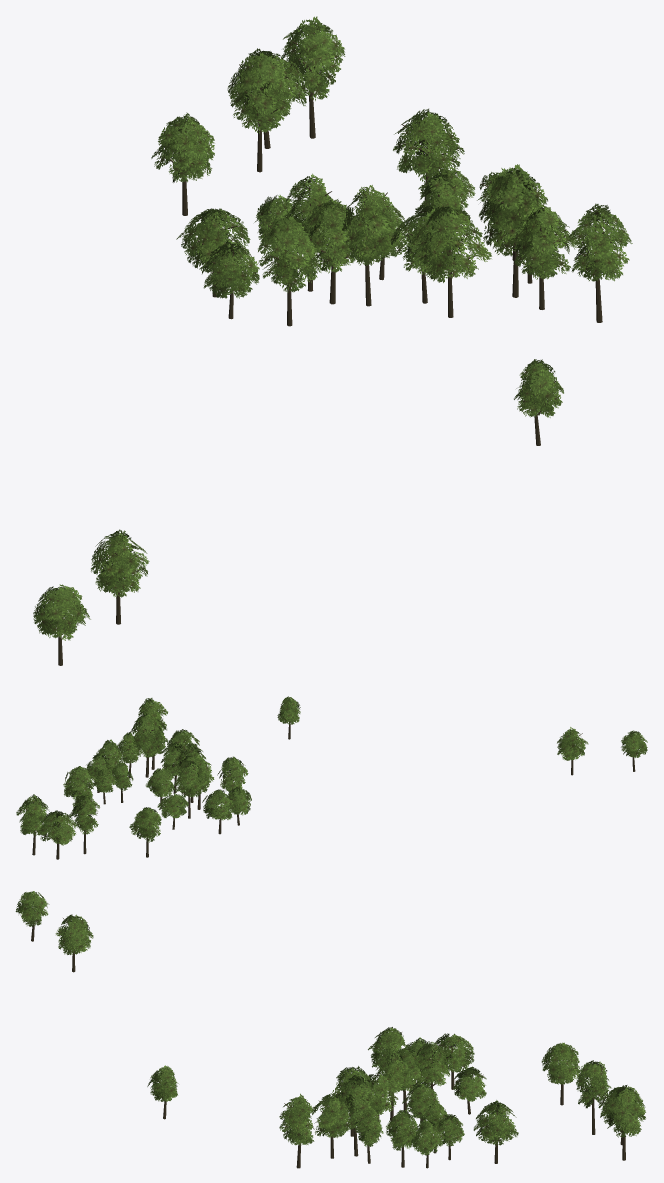
Rendered from TRB8-FOREST-CHUNK-5-4.glb.
The picture shows the model from 3 angles, top to bottom: view 1: azimuth 30°, elevation 25°; view 2: azimuth 150°, elevation 25°; view 3: azimuth 270°, elevation 25°; orthographic projection. The views are drawn at different scales.
Parts seen in each view (by area): view 1: TRB8-FOREST-CHUNK-5-4; view 2: TRB8-FOREST-CHUNK-5-4; view 3: TRB8-FOREST-CHUNK-5-4.
Part boxes in pixels (x1,y1,x2,y2): TRB8-FOREST-CHUNK-5-4: (33, 16, 632, 665); TRB8-FOREST-CHUNK-5-4: (16, 696, 647, 859); TRB8-FOREST-CHUNK-5-4: (15, 891, 645, 1168).
Bounding box in the file's own units: 39.31 × 6.46 × 42.83.
Materials: 2 (1 with a texture image).
